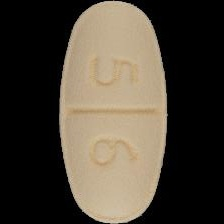43063-413: (0, 0, 224, 224)
